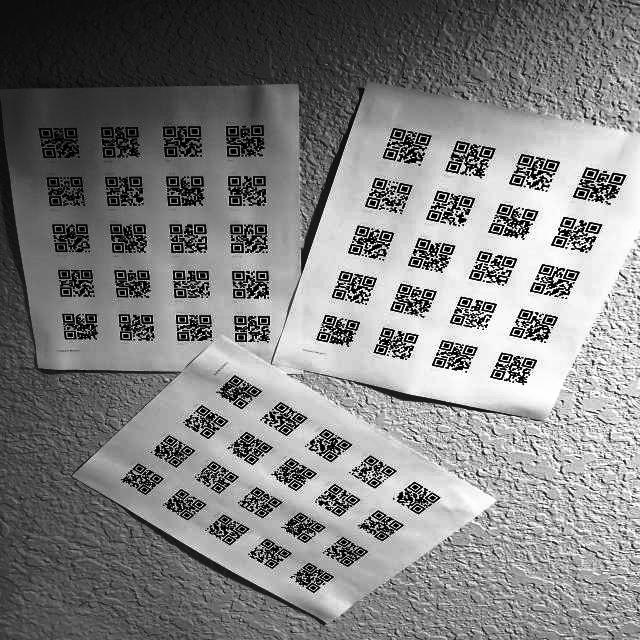qr_code: (567, 164, 632, 210), (376, 119, 434, 170), (544, 213, 612, 256), (215, 214, 277, 259), (502, 149, 559, 196), (439, 135, 497, 181), (418, 189, 479, 232), (485, 347, 544, 391), (357, 175, 417, 218), (482, 202, 542, 245), (524, 260, 584, 303), (28, 122, 86, 165), (152, 120, 210, 163), (341, 221, 401, 262), (503, 306, 563, 347), (459, 249, 522, 288), (383, 280, 442, 320), (94, 170, 148, 213), (426, 335, 480, 378), (324, 268, 383, 307), (309, 310, 363, 352), (94, 121, 147, 163), (368, 324, 421, 366), (441, 294, 498, 333), (177, 402, 231, 443), (221, 118, 272, 161), (222, 167, 273, 210), (103, 265, 159, 304), (402, 237, 458, 276), (99, 220, 153, 260), (211, 372, 265, 412), (145, 431, 200, 470), (40, 171, 92, 212), (41, 220, 95, 259), (224, 429, 278, 468), (163, 218, 214, 259), (301, 426, 356, 464), (391, 478, 443, 518), (257, 400, 310, 439), (346, 452, 399, 491), (269, 454, 319, 495), (228, 265, 280, 304), (169, 310, 218, 351), (159, 171, 210, 210), (356, 506, 408, 544), (160, 485, 209, 525), (319, 536, 377, 569), (313, 480, 362, 519), (235, 483, 285, 521), (168, 264, 215, 304), (111, 310, 160, 348), (228, 311, 277, 349), (191, 460, 241, 497), (280, 510, 332, 545), (289, 562, 341, 597), (55, 308, 105, 344), (116, 461, 166, 497), (53, 263, 100, 301), (246, 537, 297, 572), (203, 512, 252, 548)
